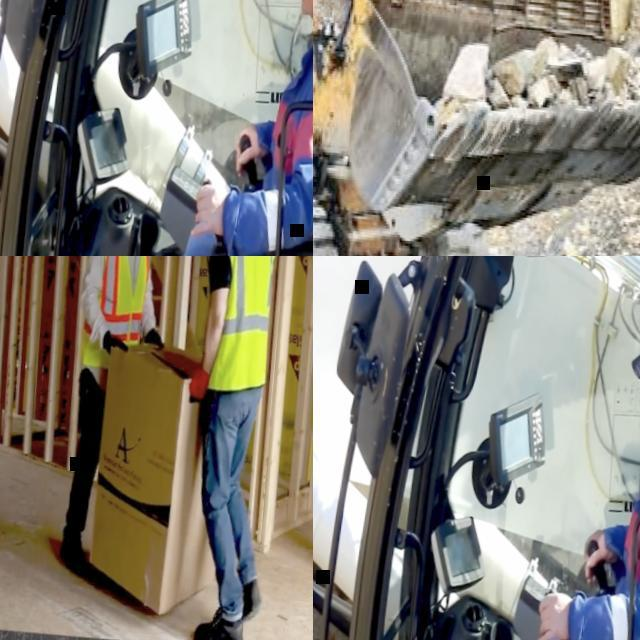vest: (255, 47, 313, 256), (193, 256, 279, 393), (75, 256, 158, 372), (605, 460, 640, 640)
